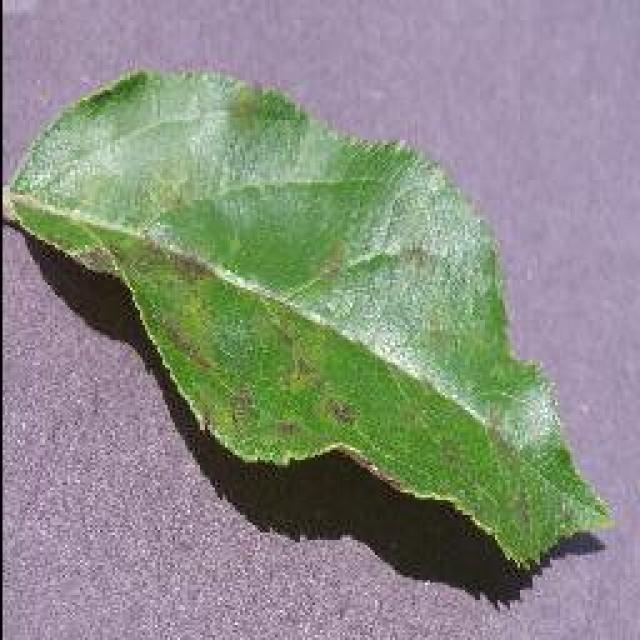apple scab disease: (3, 63, 615, 575)
